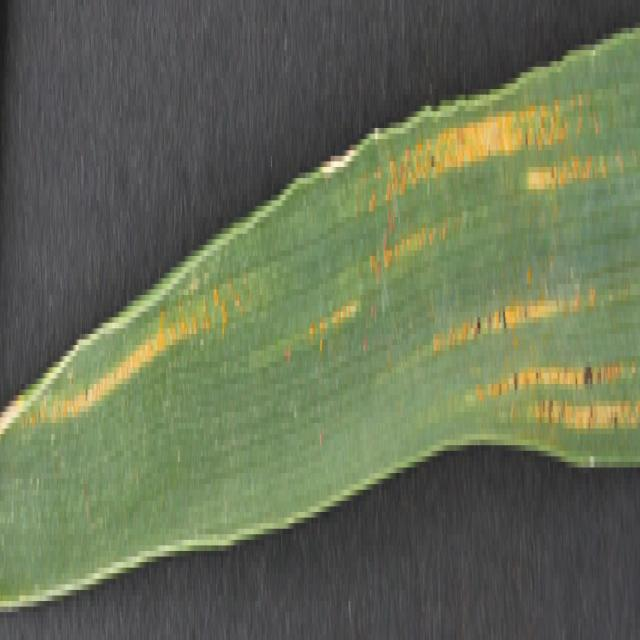leaf rust: (305, 50, 640, 445), (1, 250, 258, 423)
